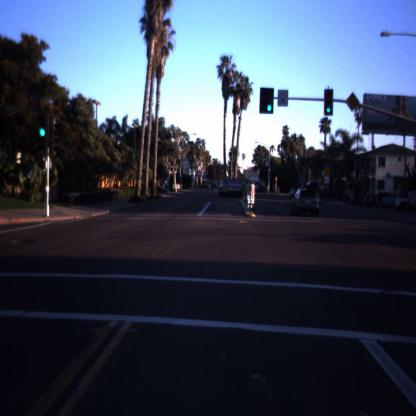trafficlight: (261, 88, 274, 114), (40, 115, 48, 147), (324, 89, 333, 117)
